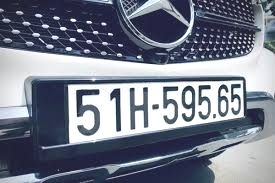Bien-so: (63, 80, 254, 150)
